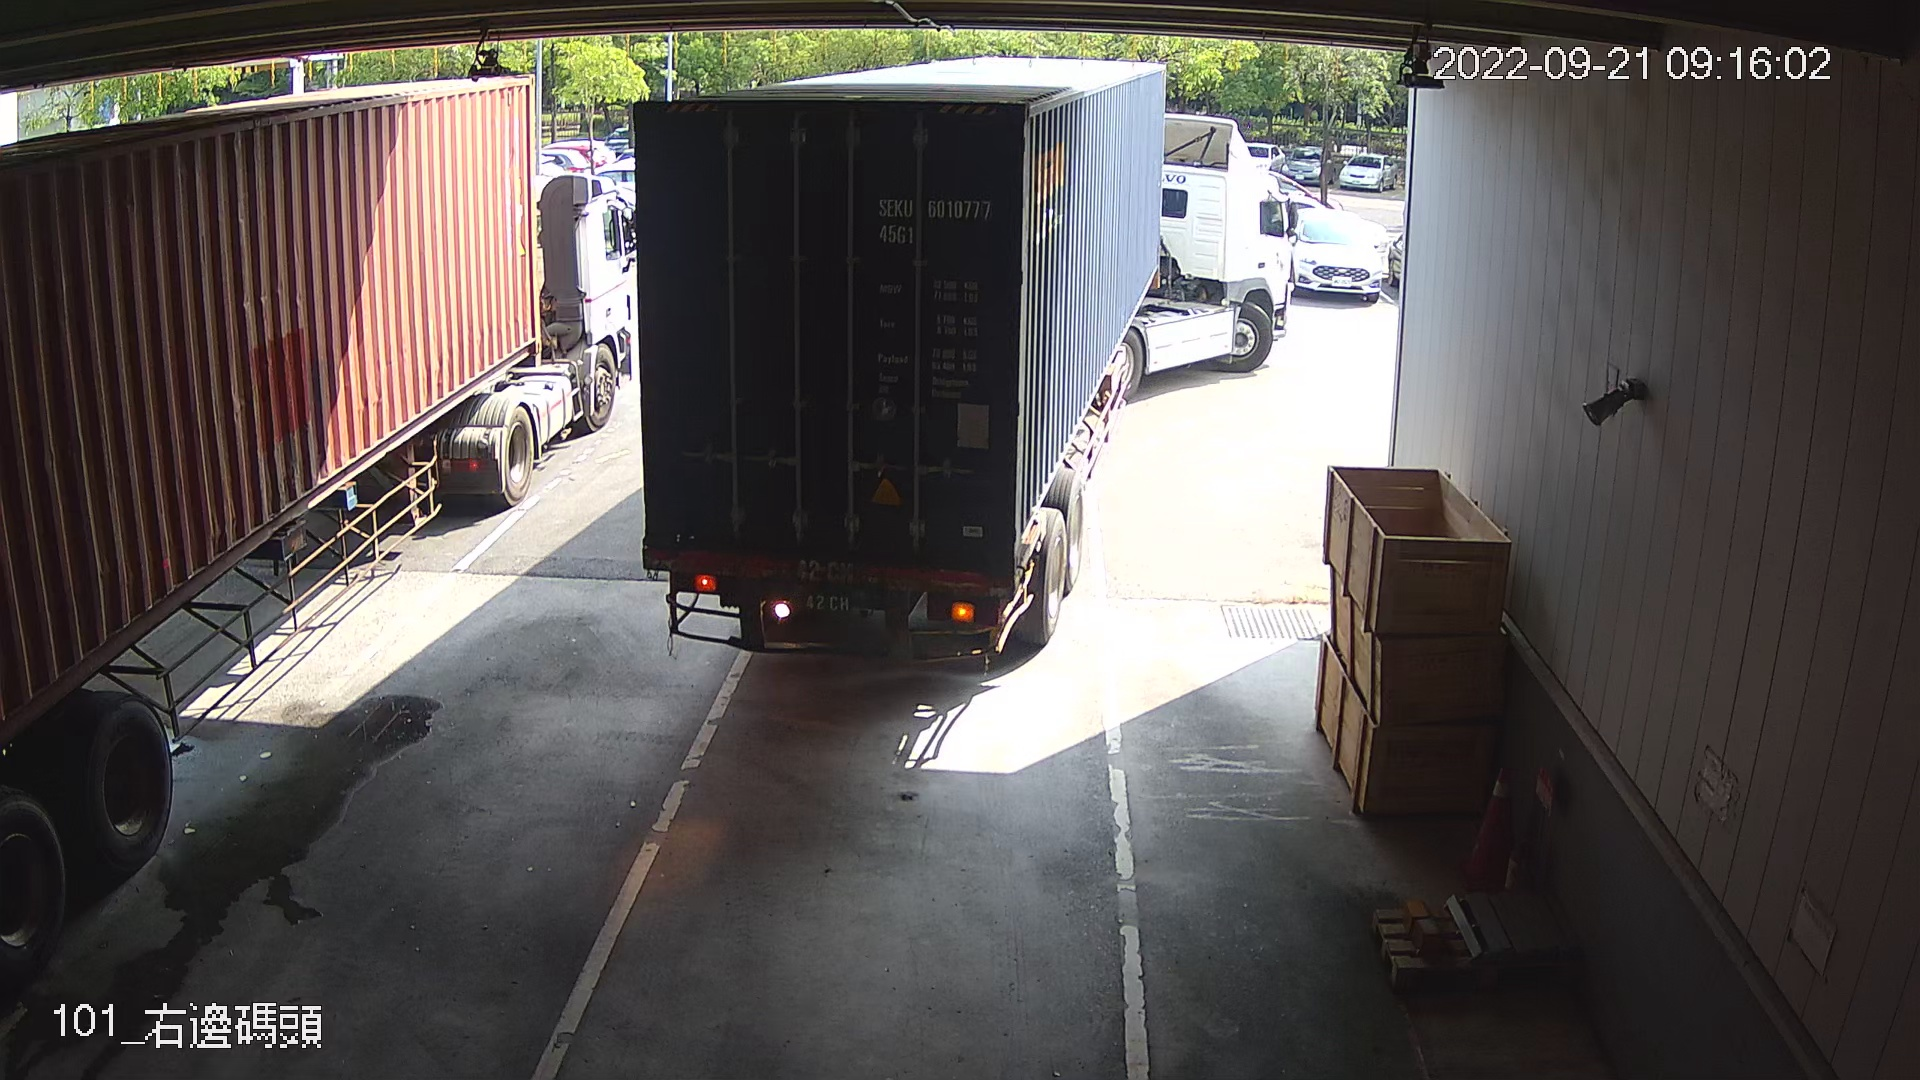container: (866, 189, 996, 255)
